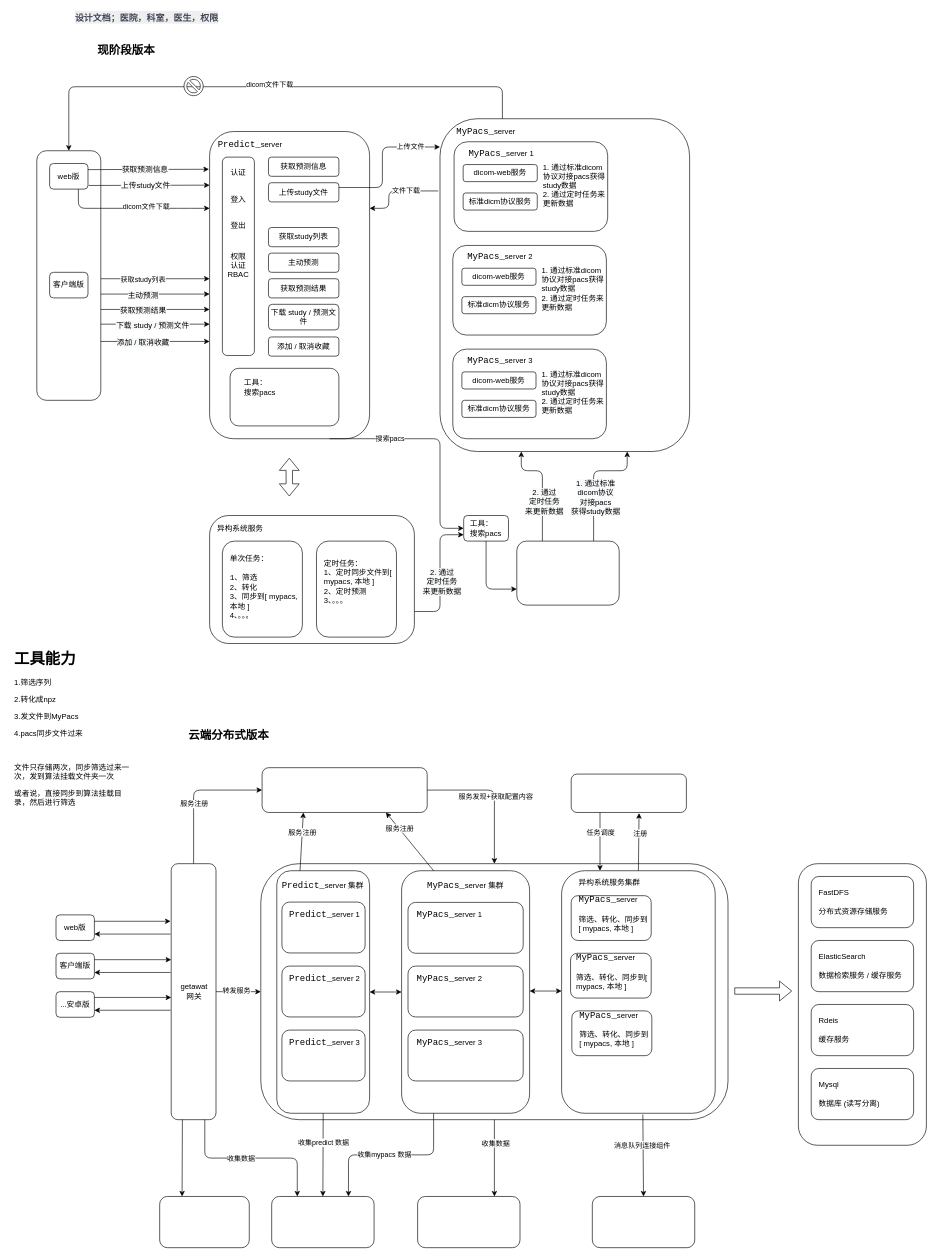
Image size: 938x1259. Some labels were removed from this diagram. The shapes that lost their labels are listed below. From the top down, each one's box as (x1, y1, x2, y2) in pixels, then its label:
(516, 540, 619, 605): 医院pacs
(261, 767, 427, 812): 服务注册中心，配置管理中心
(571, 773, 686, 812): 分布式任务调度系统 celery
(159, 1196, 249, 1248): 认证中心 Role-Auth RBAC
(271, 1196, 374, 1248): 链路监控服务中心 zipkin / sky walking
(417, 1196, 520, 1248): 日志聚合系统 ELK
(592, 1196, 695, 1248): 消息队列中间件 Rb MQ / KAFKA / Redis
